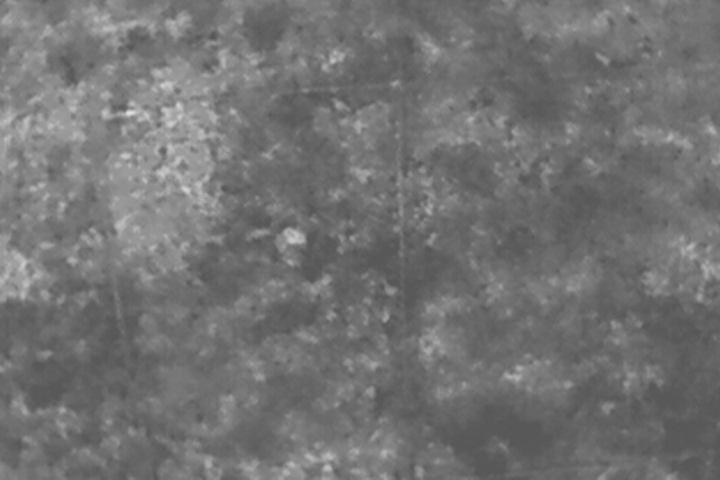landmine: (283, 226, 308, 249)
